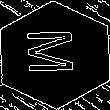M_E: (26, 31, 84, 79)
